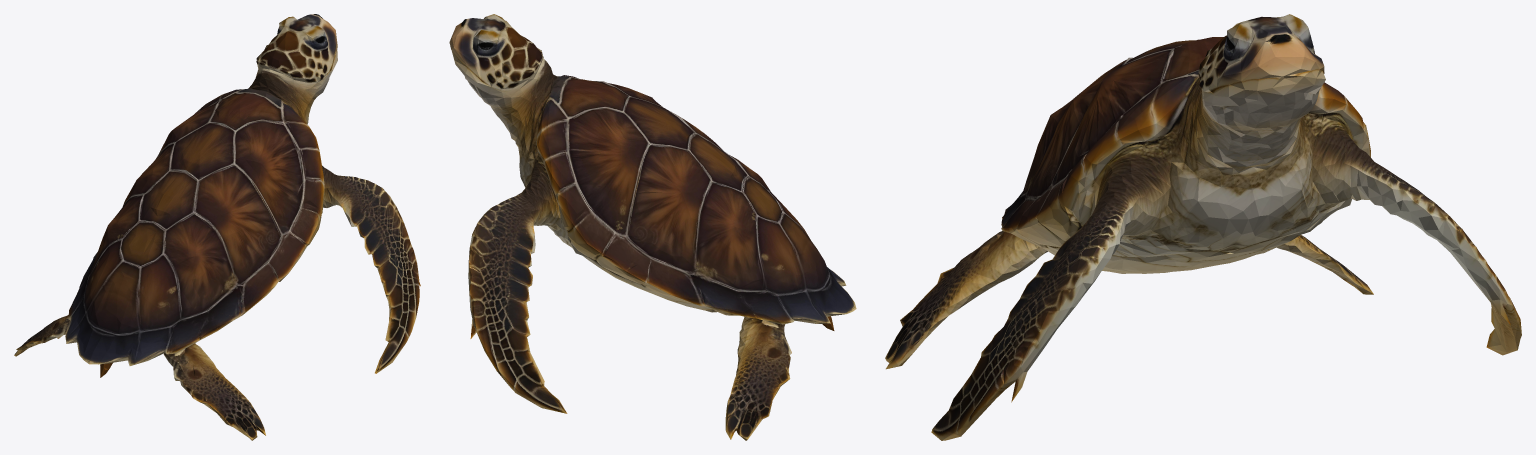
Rendered from seaturtle_texture.obj.
3 views of the same model, side by side, from view 1: azimuth 30°, elevation 25°; view 2: azimuth 150°, elevation 25°; view 3: azimuth 270°, elevation 25° (orthographic). The views are drawn at different scales.
Parts seen in each view (by area): view 1: seaturtle_texture; view 2: seaturtle_texture; view 3: seaturtle_texture.
Part boxes in pixels (x1,y1,x2,y2): seaturtle_texture: (14, 14, 420, 440); seaturtle_texture: (449, 14, 856, 440); seaturtle_texture: (885, 14, 1521, 440).
Size of the model in its own units: 0.9714 by 0.8729 by 1.06.
1 material, 1 textured.
